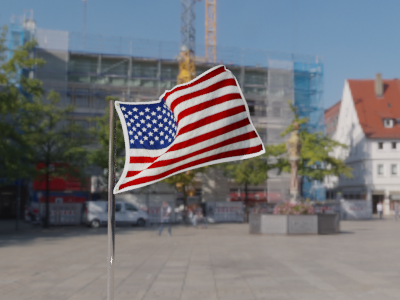America flag: (114, 65, 266, 195)
